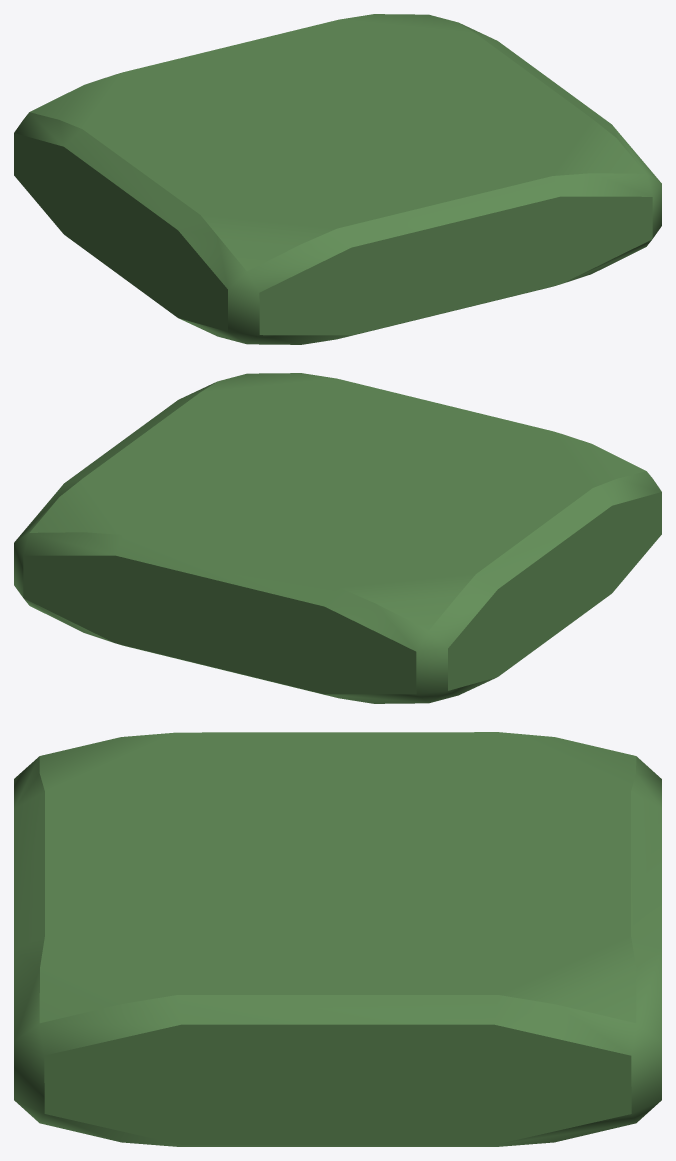
The model's file is 座布団2.fbx.
3 views of the same model, one above another, from view 1: azimuth 30°, elevation 25°; view 2: azimuth 150°, elevation 25°; view 3: azimuth 270°, elevation 25° (orthographic). The views are drawn at different scales.
Parts seen in each view (by area): view 1: pasted__pCube23; view 2: pasted__pCube23; view 3: pasted__pCube23.
Boxes of the visible parts, <box> form: pasted__pCube23: <box>14,14,661,344</box>; pasted__pCube23: <box>14,373,661,703</box>; pasted__pCube23: <box>14,732,661,1146</box>.
Bounding box in the file's own units: 24.48 × 5.97 × 23.09.
